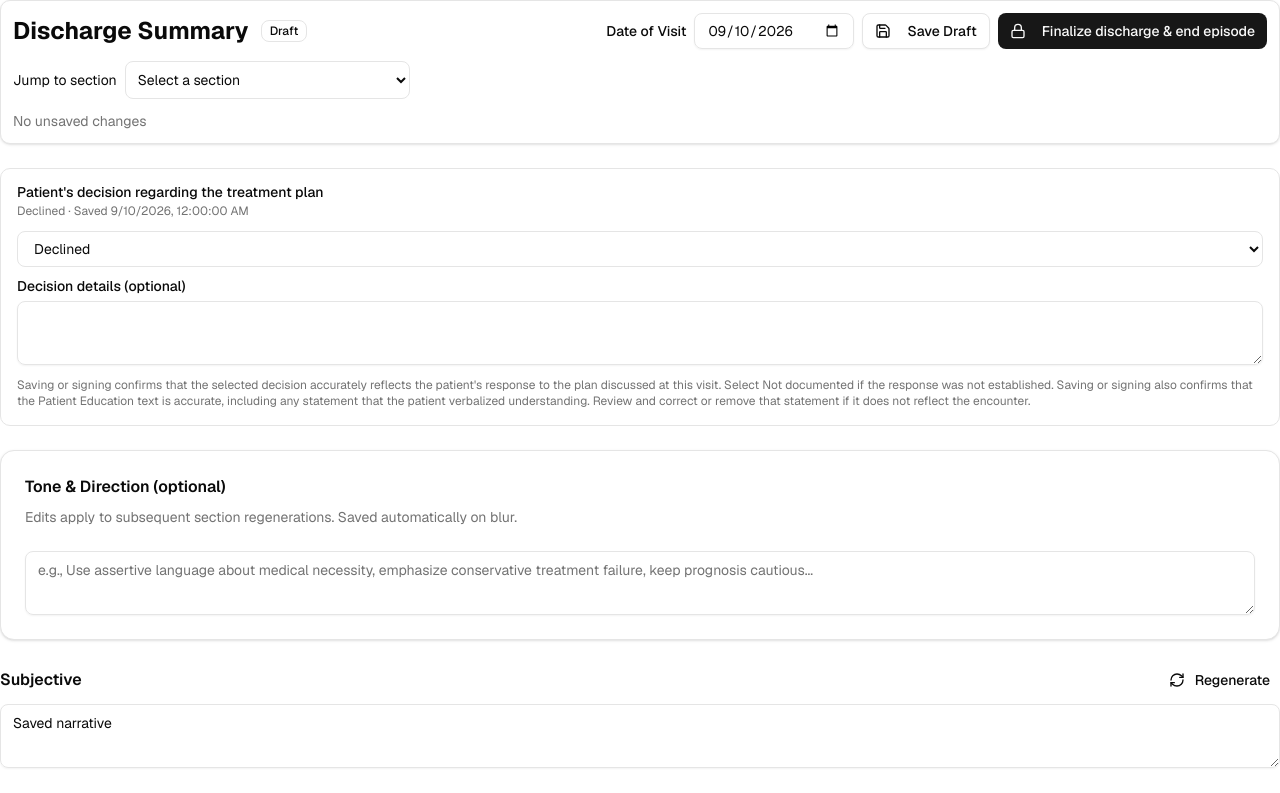
Test: distinguishes discharge finalization failure after a successful save
This screenshot has width=1280, height=793.
Click the button "Finalize discharge & end episode": (1132, 31) [998, 13, 1267, 49]
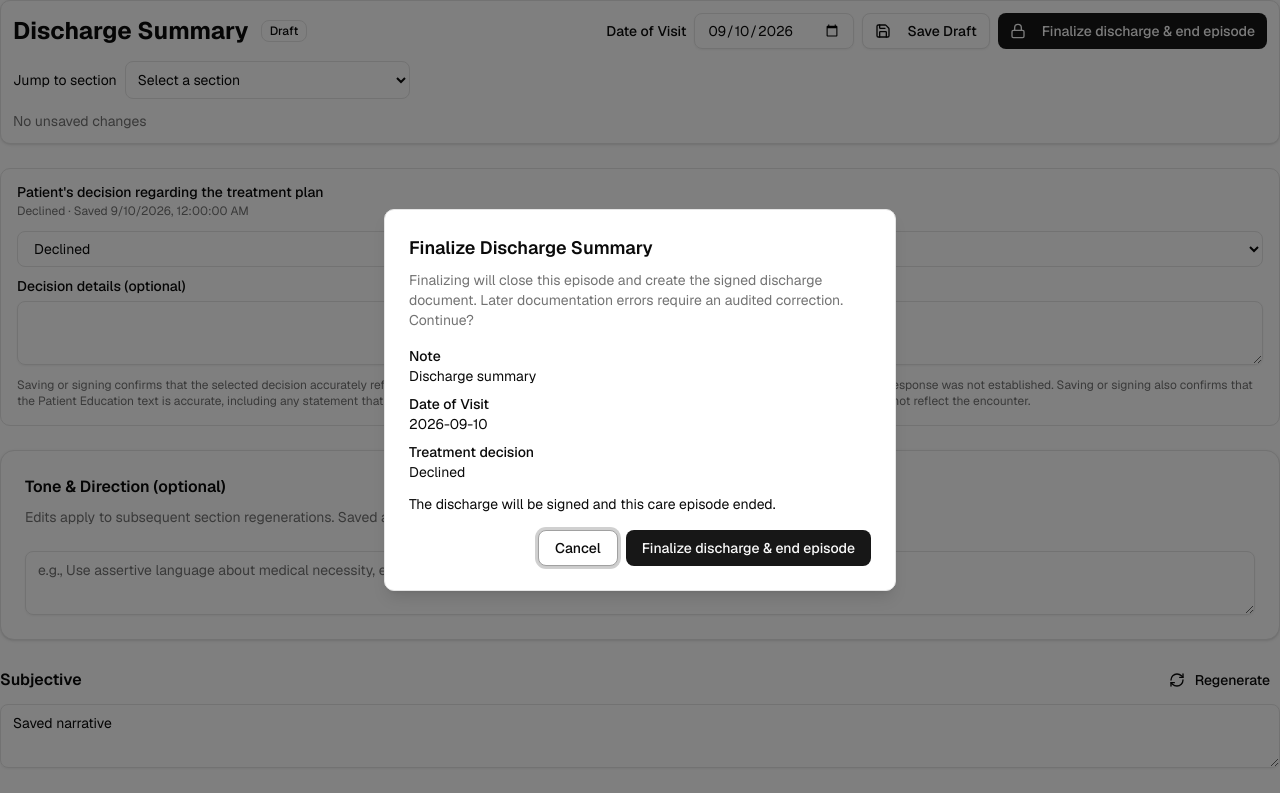
Check: the text "2026-09-10" is shown, box [409, 415, 488, 433]
Click the button "Finalize discharge & end episode": (748, 548) [626, 530, 871, 566]
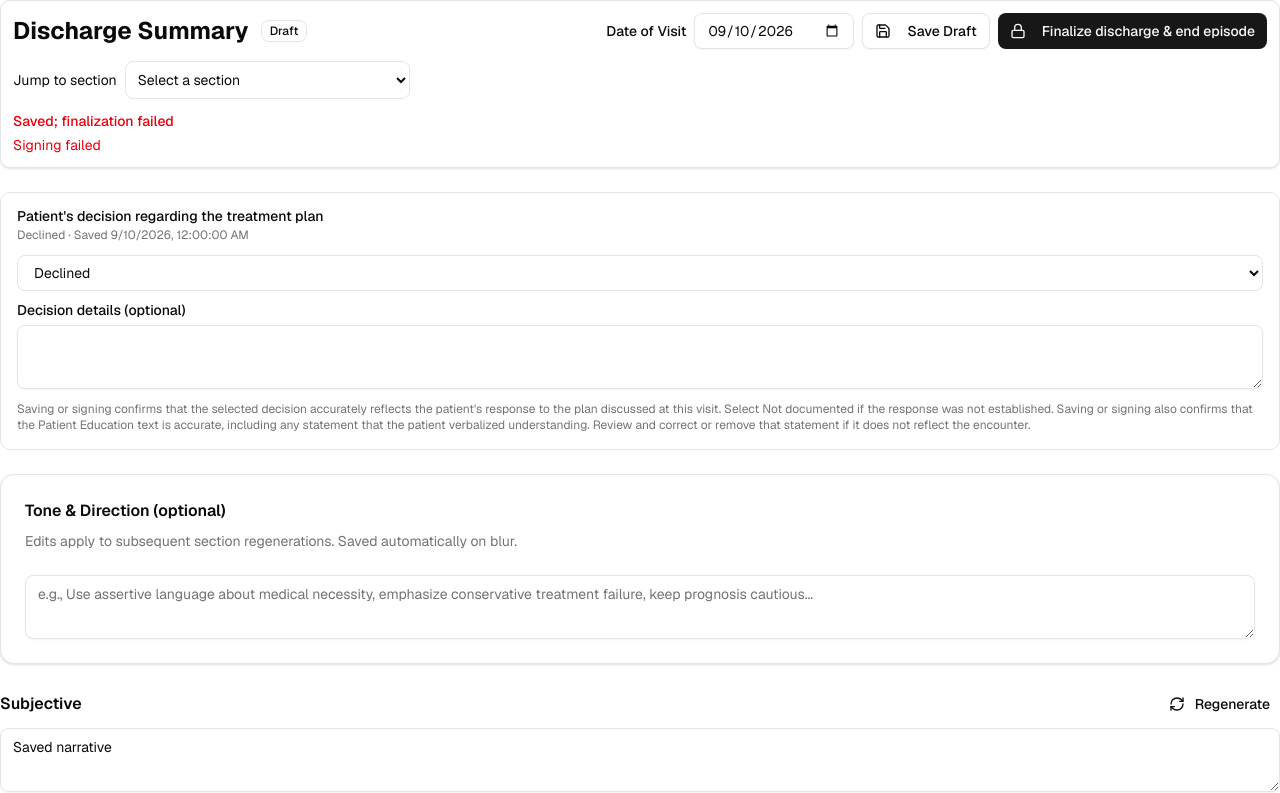
Check: the text "Saved; finalization failed" is shown, box [13, 112, 174, 130]
Check: the text "Signing failed" is shown, box [13, 136, 101, 154]
